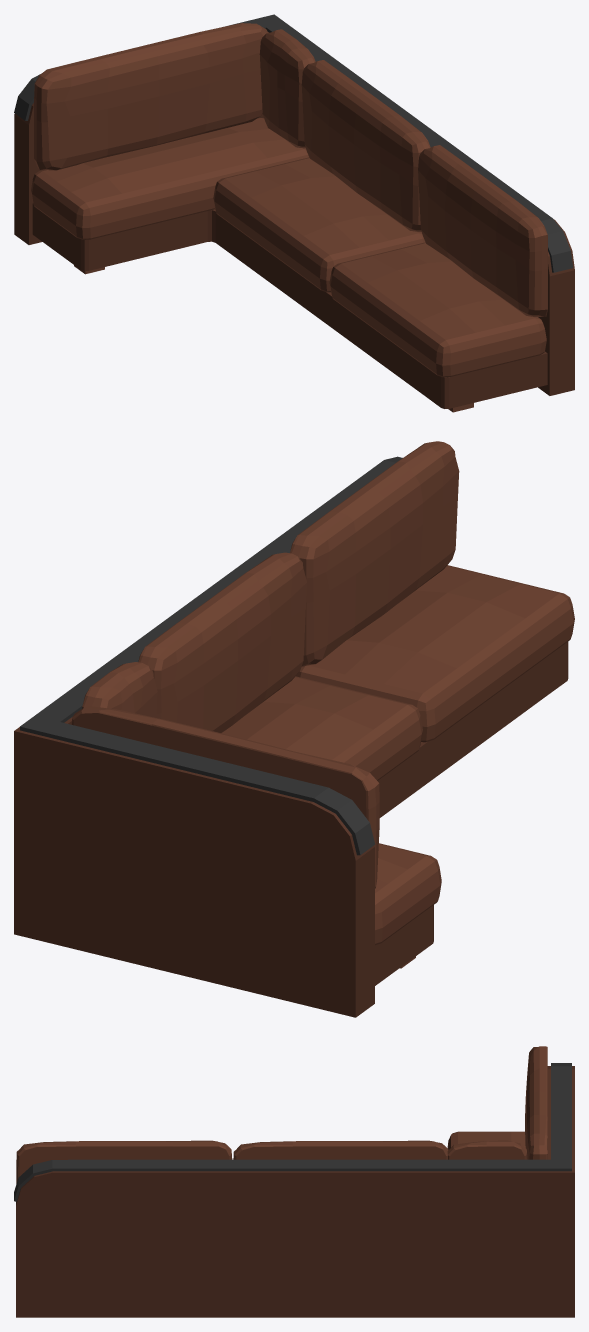
Rendered from Int_SofaCorner01_1.fbx.
3 views of the same model, one above another, from view 1: azimuth 30°, elevation 25°; view 2: azimuth 150°, elevation 25°; view 3: azimuth 270°, elevation 25° (orthographic). The views are drawn at different scales.
Visible parts, largest first — view 1: Int_SofaCorner01_1; view 2: Int_SofaCorner01_1; view 3: Int_SofaCorner01_1.
Boxes of the visible parts, x1,y1,x2,y2 form: Int_SofaCorner01_1: [14, 14, 574, 412]; Int_SofaCorner01_1: [14, 441, 574, 1017]; Int_SofaCorner01_1: [14, 1046, 574, 1317].
Size of what is drawn, in the model's own units: 210 by 415 by 132.
